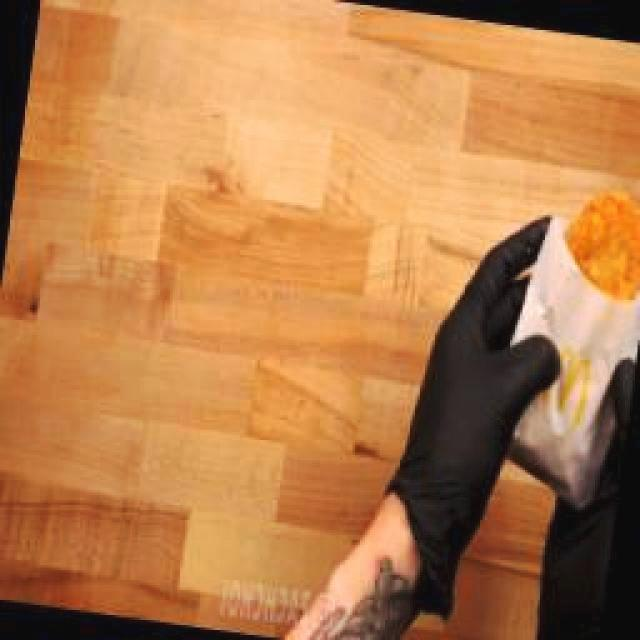Hashbrown: (563, 192, 640, 299)
